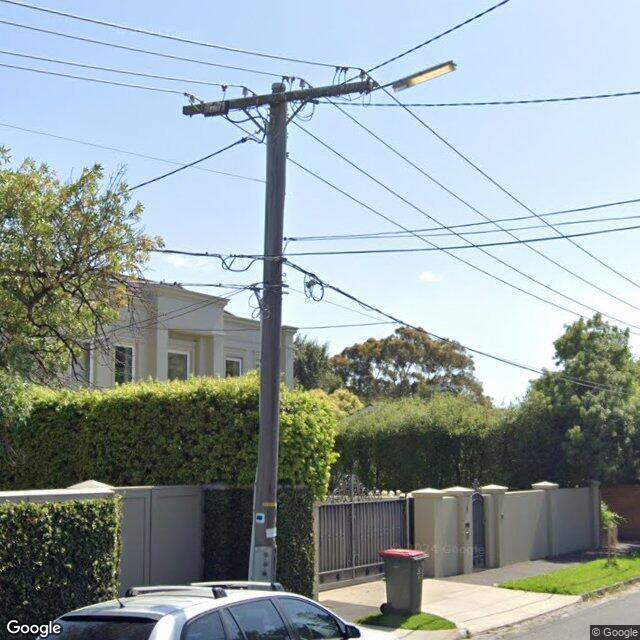crossarm: (184, 81, 372, 115)
streetlight: (366, 60, 458, 95)
timber-pole: (248, 82, 286, 590)
